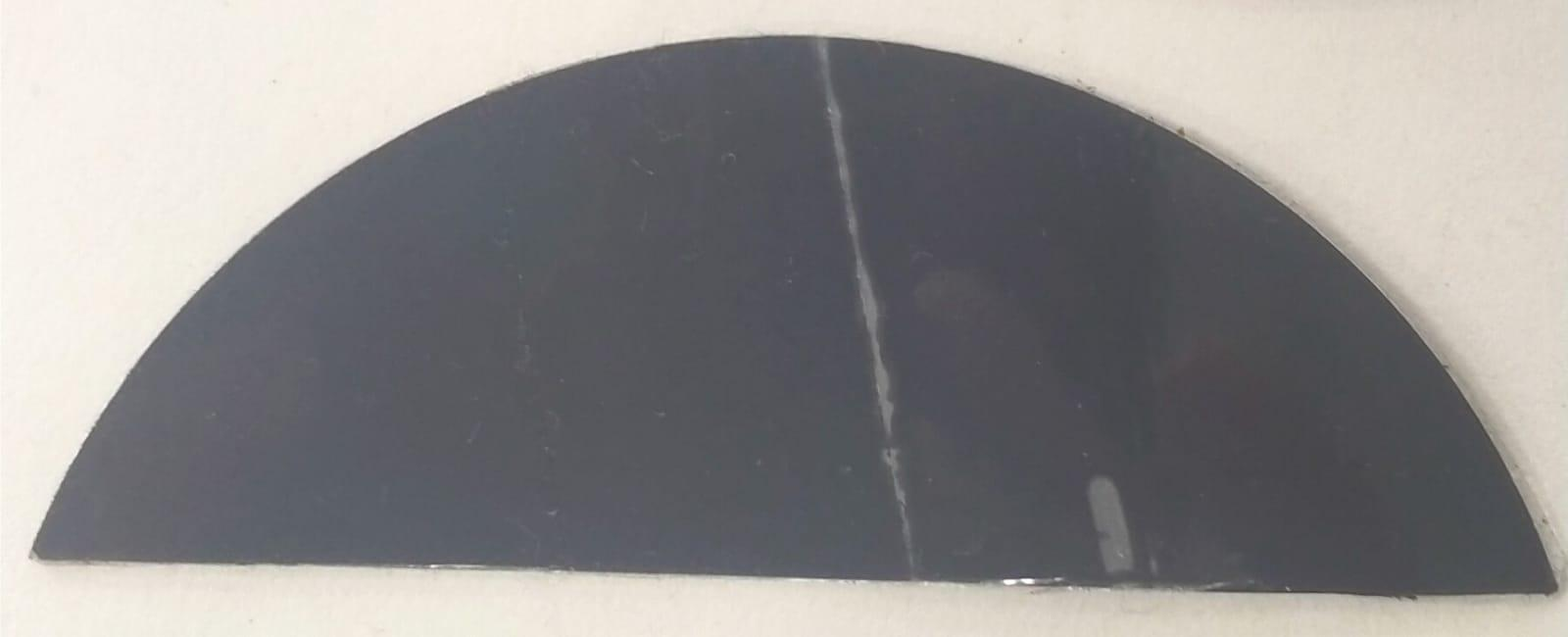crack: (800, 18, 936, 587)
scratch: (1070, 451, 1150, 580)
